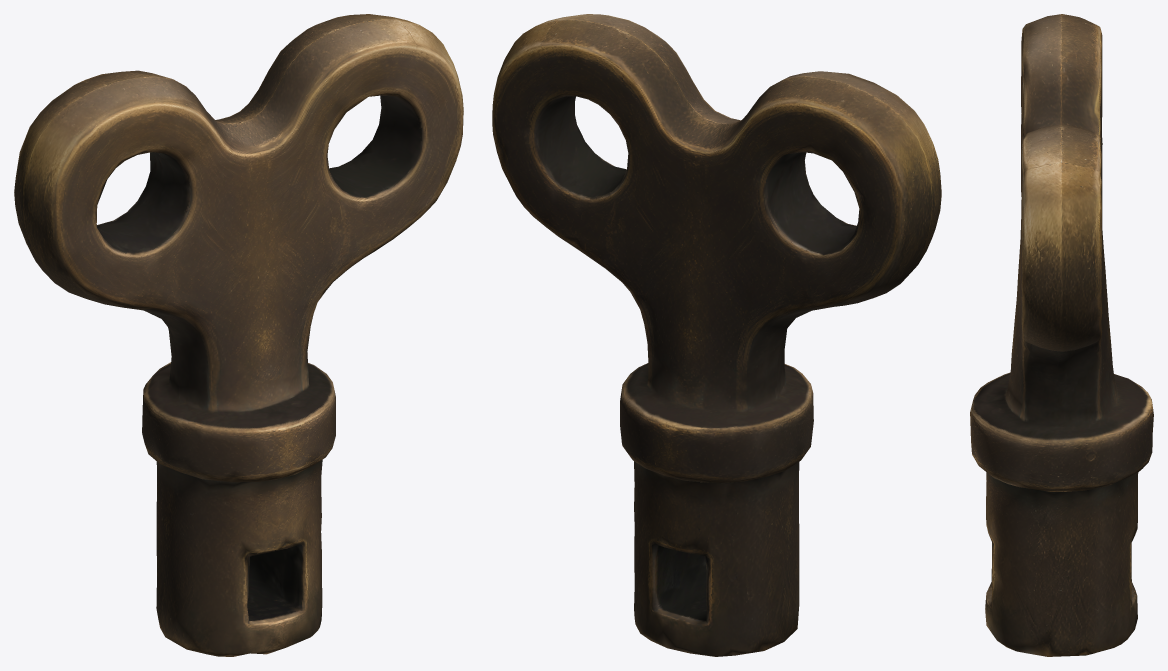
Rendered from Prop_WindupKey.fbx.
The picture shows the model from 3 angles, left to right: view 1: azimuth 30°, elevation 25°; view 2: azimuth 150°, elevation 25°; view 3: azimuth 270°, elevation 25°; orthographic projection. The views are drawn at different scales.
Visible parts, largest first — view 1: texture_mapping; view 2: texture_mapping; view 3: texture_mapping.
Boxes of the visible parts, bbox=[...] form: texture_mapping: bbox=[14, 14, 463, 656]; texture_mapping: bbox=[492, 14, 941, 656]; texture_mapping: bbox=[970, 14, 1153, 656].
Size of the model in its own units: 0.7895 by 0.3072 by 1.
Materials: 1 (1 with a texture image).
